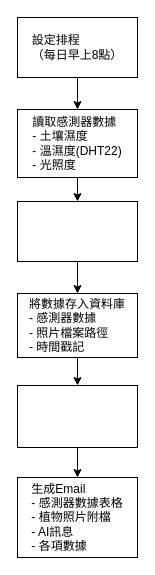
Image size: 155x575. Some labels were removed from this diagram. Each missing label, with the box of its shape:
AI分析與生成 - 分析植物狀態 - 分析訊息 - 判斷是否需要澆水: (16, 384, 138, 448)
嵌入式系統觸發相機 - 自拍: (16, 200, 138, 262)
